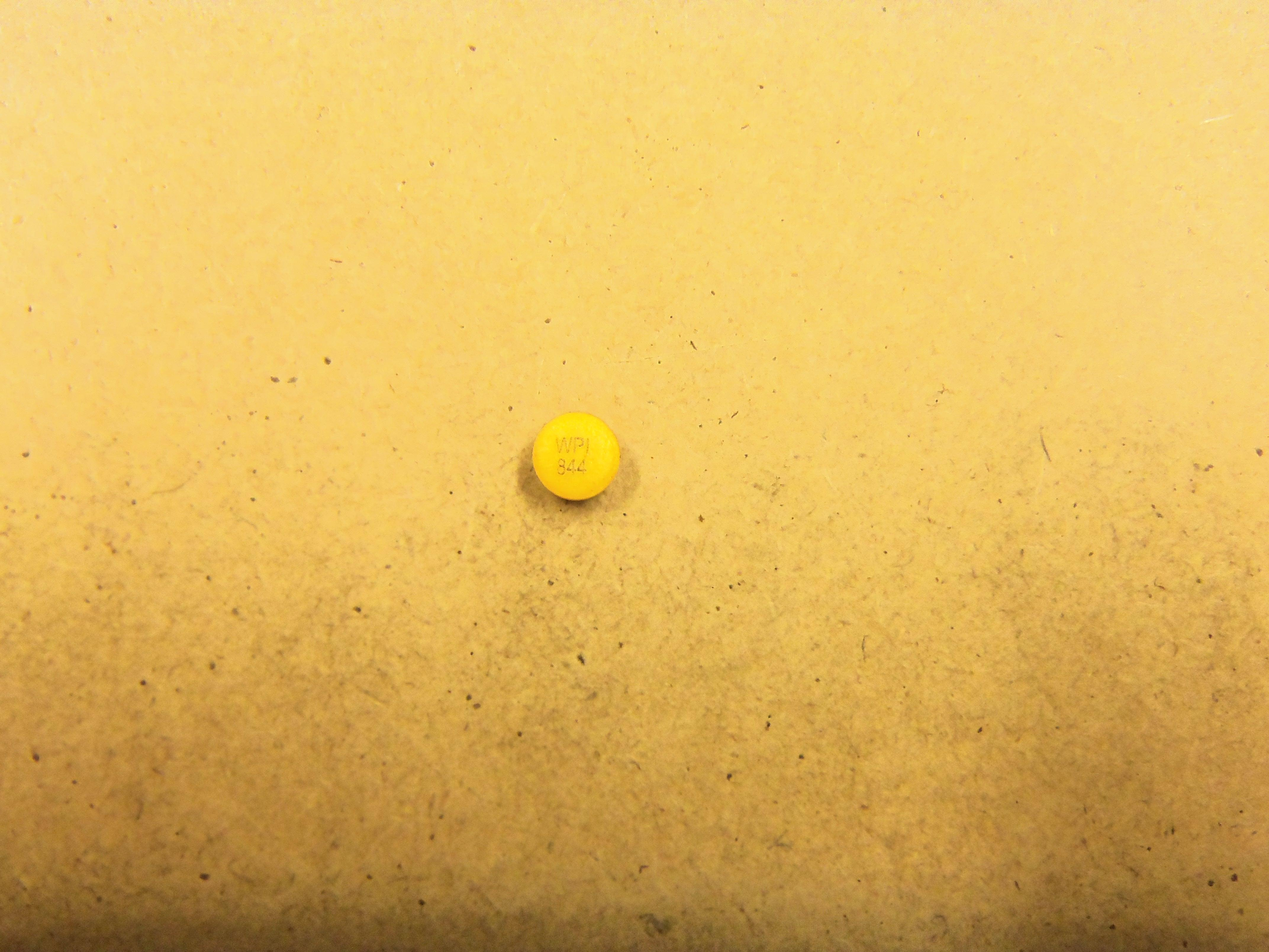Pill: (518, 397, 636, 514)
